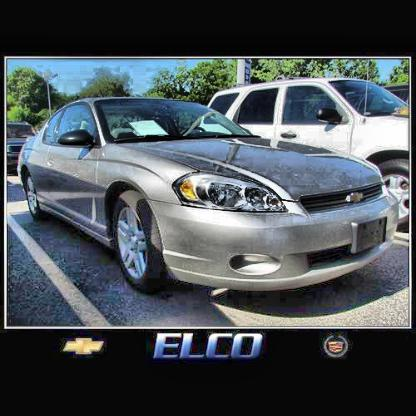Chevrolet Monte Carlo Coupe 2007: (17, 97, 399, 296)
